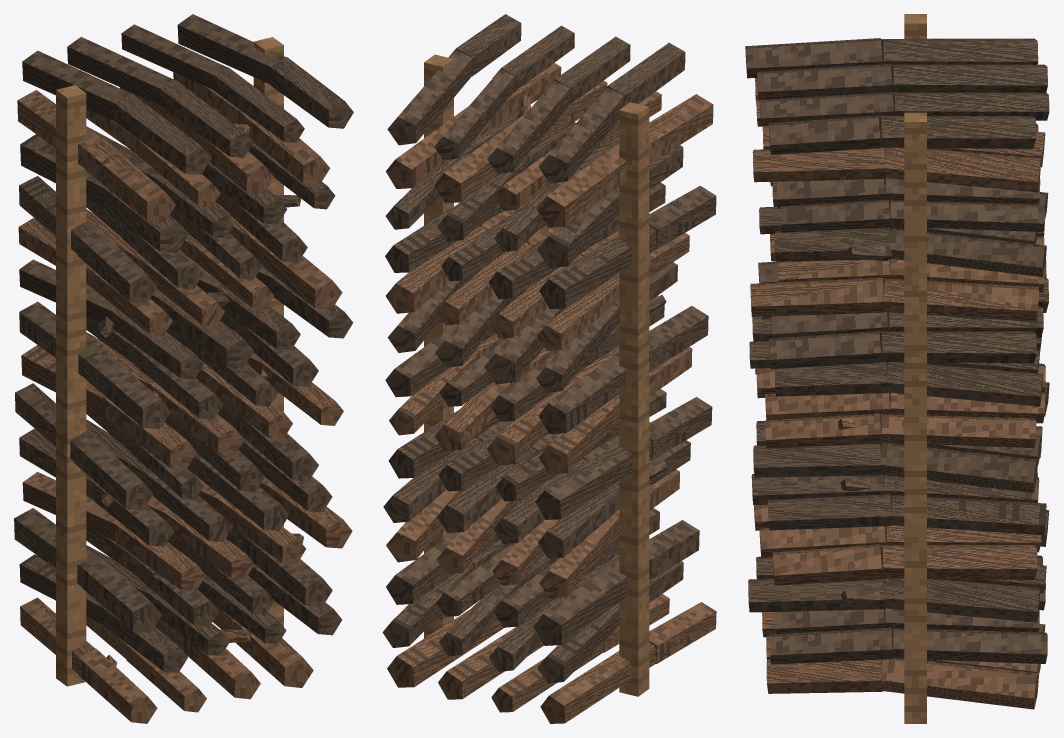
File: f_stick_long_stack_tall.glb
3 views of the same model, side by side, from view 1: azimuth 30°, elevation 25°; view 2: azimuth 150°, elevation 25°; view 3: azimuth 270°, elevation 25° (orthographic). The views are drawn at different scales.
Visible parts, largest first — view 1: block_stacked-stick-2 (×56), block_stacked-stick-1 (×27), block_stack-retaining-stake (×2); view 2: block_stacked-stick-1 (×56), block_stacked-stick-2 (×25), block_stack-retaining-stake (×2); view 3: block_stacked-stick-1 (×30), block_stacked-stick-2 (×27), block_stack-retaining-stake (×2), block_short-fork-on-branch (×2).
Boxes of the visible parts, x1,y1,x2,y2 form: block_stacked-stick-2 (×56): (73,57,353,723); block_stacked-stick-1 (×27): (14,14,285,673); block_stack-retaining-stake (×2): (56,37,283,686); block_stacked-stick-1 (×56): (382,50,656,723); block_stacked-stick-2 (×25): (448,14,716,664); block_stack-retaining-stake (×2): (424,54,649,696); block_stacked-stick-1 (×30): (878,38,1049,709); block_stacked-stick-2 (×27): (745,38,893,693); block_stack-retaining-stake (×2): (904,14,926,723); block_short-fork-on-branch (×2): (841,245,892,604).
Size of the model in its own units: 0.8308 by 2.08 by 0.9532.
Materials: 1 (1 with a texture image).
